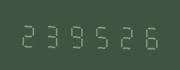five: (90, 20, 113, 50)
nine: (66, 19, 89, 49)
six: (138, 20, 161, 51)
three: (41, 19, 64, 49)
two: (17, 18, 40, 49), (114, 20, 137, 50)
